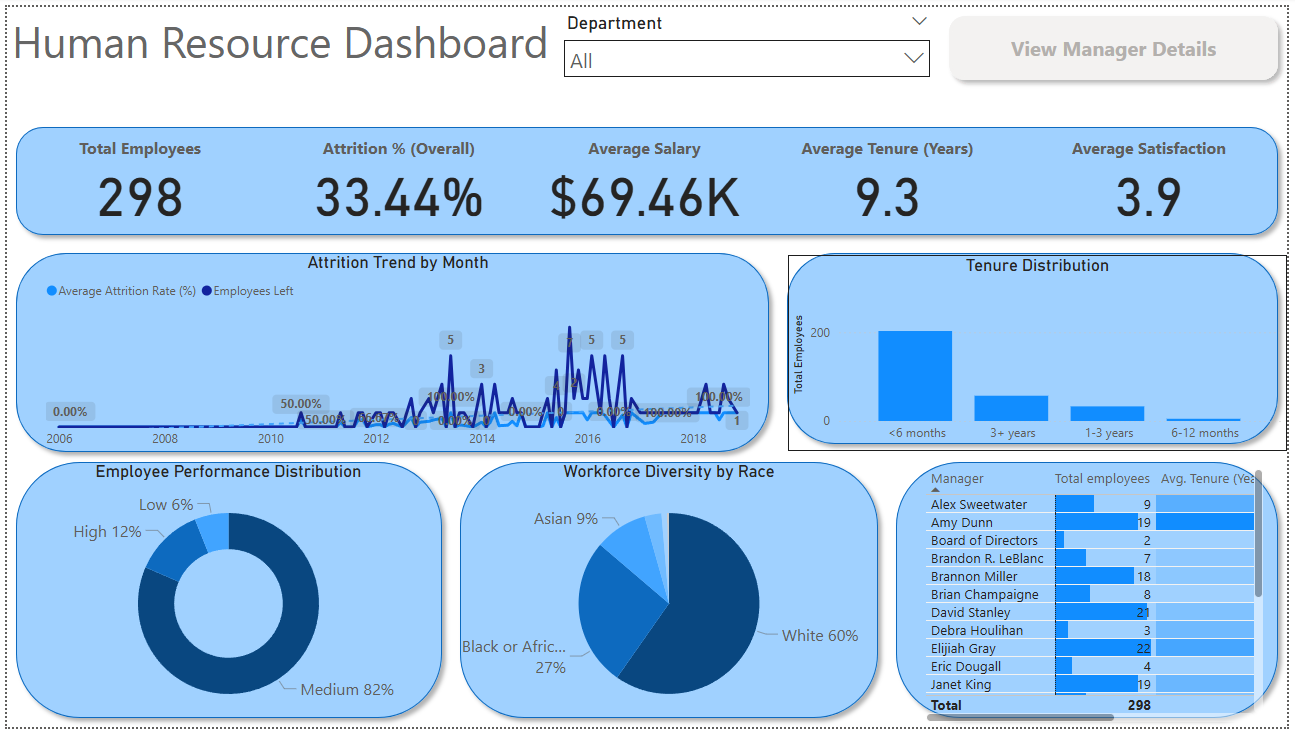

This screenshot's page, from the dashboard's own definition file:
{"tool":"powerbi","page":{"name":"HR Analytics Overview","canvas":[1280,720],"ordinal":0},"visuals":[{"type":"group","id":"g1","title":"Background","box":[0,111,1280,608.8],"z":0},{"type":"textbox","box":[0,0,547,82.1],"z":1000},{"type":"slicer","fields":{"Values":["dim_departments.department_name"]},"box":[546.7,0,386,81.7],"z":2000},{"type":"actionButton","box":[932.8,0,347.2,82.1],"z":3000},{"type":"cardVisual","fields":{"Data":["Count(fact_hr_clean.employee_id)"]},"box":[0,107.7,265.7,132.9],"z":4000},{"type":"cardVisual","fields":{"Data":["Avg(fact_hr_clean.salary)"]},"box":[518,107.7,238.8,132.9],"z":5000},{"type":"cardVisual","fields":{"Data":["fact_hr_clean.Attrition % (Overall)"]},"box":[265.7,107.7,252.3,132.9],"z":6000},{"type":"cardVisual","fields":{"Data":["Avg(fact_hr_clean.tenure_years)"]},"box":[756.8,107.7,246.9,132.9],"z":7000},{"type":"cardVisual","fields":{"Data":["Avg(fact_hr_clean.emp_satisfaction)"]},"box":[1003.7,107.7,276.5,132.9],"z":8000},{"type":"lineChart","title":"Attrition Trend by Month","fields":{"Category":["fact_attrition_monthly.month.Variation.Date Hierarchy.Month"],"Y":["Avg(fact_attrition_monthly.attrition_rate)","Sum(fact_attrition_monthly.employees_left)"]},"box":[34,244.8,714.4,204.8],"z":9000},{"type":"columnChart","title":"Tenure Distribution","fields":{"Category":["fact_hr_clean.tenure_bucket"],"Y":["Count(fact_hr_clean.employee_id)"]},"box":[781.4,247.8,498.6,195.8],"z":10000},{"type":"donutChart","title":"Employee Performance Distribution","fields":{"Category":["fact_hr_clean.performance_category"],"Y":["Count(fact_hr_clean.employee_id)"]},"box":[0,454.3,443.5,265.7],"z":11000},{"type":"pieChart","title":"Workforce Diversity by Race","fields":{"Category":["dim_race.race_name"],"Y":["Count(fact_hr_clean.employee_id)"]},"box":[443.5,454.3,437.2,265.7],"z":12000},{"type":"tableEx","fields":{"Values":["dim_managers.manager_name","Count(fact_hr_clean.employee_id)","fact_hr_clean.Avg_Tenure_Years","Avg(fact_hr_clean.emp_satisfaction)","fact_hr_clean.AttritedReports"]},"box":[913.3,456.6,347.7,263.8],"z":13000},{"type":"shape","box":[0,237.4,771.3,216.9],"z":14500,"group":"g1"},{"type":"shape","box":[0,111,1280,126.4],"z":14750,"group":"g1"},{"type":"shape","box":[771.3,237.4,508.7,208.1],"z":15000,"group":"g1"},{"type":"shape","box":[0,445.5,443.5,274.3],"z":16000,"group":"g1"},{"type":"shape","box":[443.5,445.5,436.7,274.3],"z":17000,"group":"g1"},{"type":"shape","box":[880.2,445.5,399.8,274.3],"z":18000,"group":"g1"}]}

Visuals, with their boxes in screenshot pixels (x1, y1, x2, y2), scaled from the page's 1280x720 canvas onto the 1295x735 screenshot:
"Background" group: [0, 113, 1294, 734]
textbox: [0, 0, 553, 84]
slicer - dim_departments.department_name: [553, 0, 944, 83]
actionButton: [944, 0, 1294, 84]
cardVisual - Count(fact_hr_clean.employee_id): [0, 110, 269, 246]
cardVisual - Avg(fact_hr_clean.salary): [524, 110, 766, 246]
cardVisual - fact_hr_clean.Attrition % (Overall): [269, 110, 524, 246]
cardVisual - Avg(fact_hr_clean.tenure_years): [766, 110, 1015, 246]
cardVisual - Avg(fact_hr_clean.emp_satisfaction): [1015, 110, 1294, 246]
"Attrition Trend by Month" lineChart: [34, 250, 757, 459]
"Tenure Distribution" columnChart: [791, 253, 1294, 453]
"Employee Performance Distribution" donutChart: [0, 464, 449, 734]
"Workforce Diversity by Race" pieChart: [449, 464, 891, 734]
tableEx - dim_managers.manager_name x Count(fact_hr_clean.employee_id): [924, 466, 1276, 734]
shape: [0, 242, 780, 464]
shape: [0, 113, 1294, 242]
shape: [780, 242, 1294, 455]
shape: [0, 455, 449, 734]
shape: [449, 455, 891, 734]
shape: [891, 455, 1294, 734]
